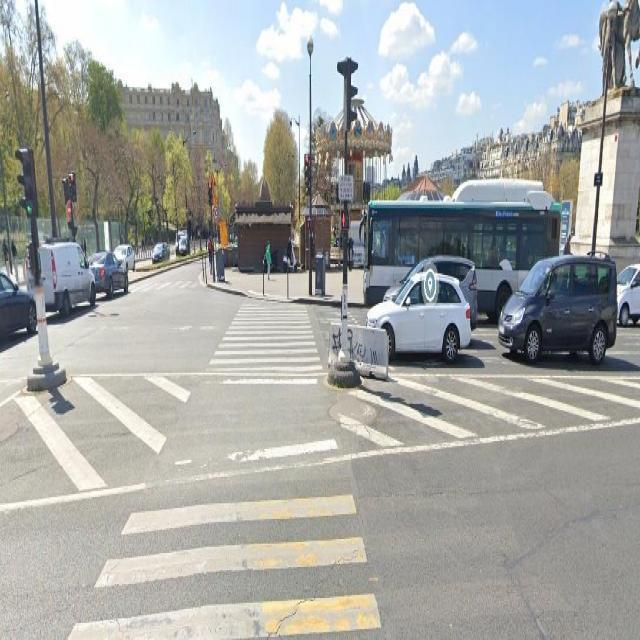bus: (347, 172, 570, 330)
car: (499, 250, 626, 380), (350, 270, 480, 391)
